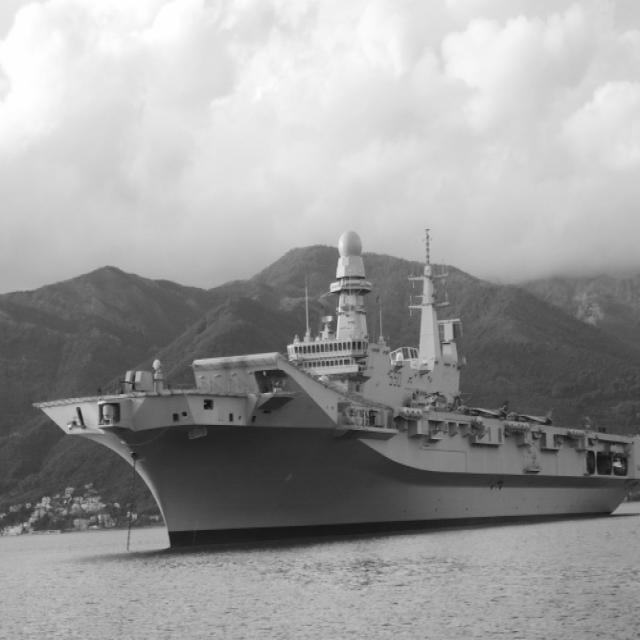Portanaves: (29, 218, 640, 566)
